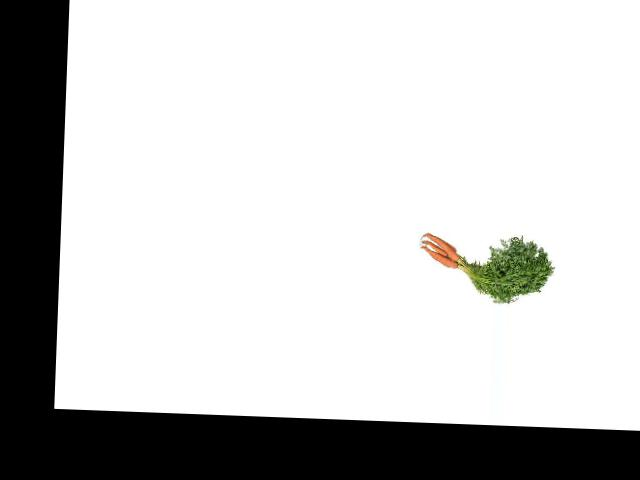carrot: (426, 232, 463, 260)
